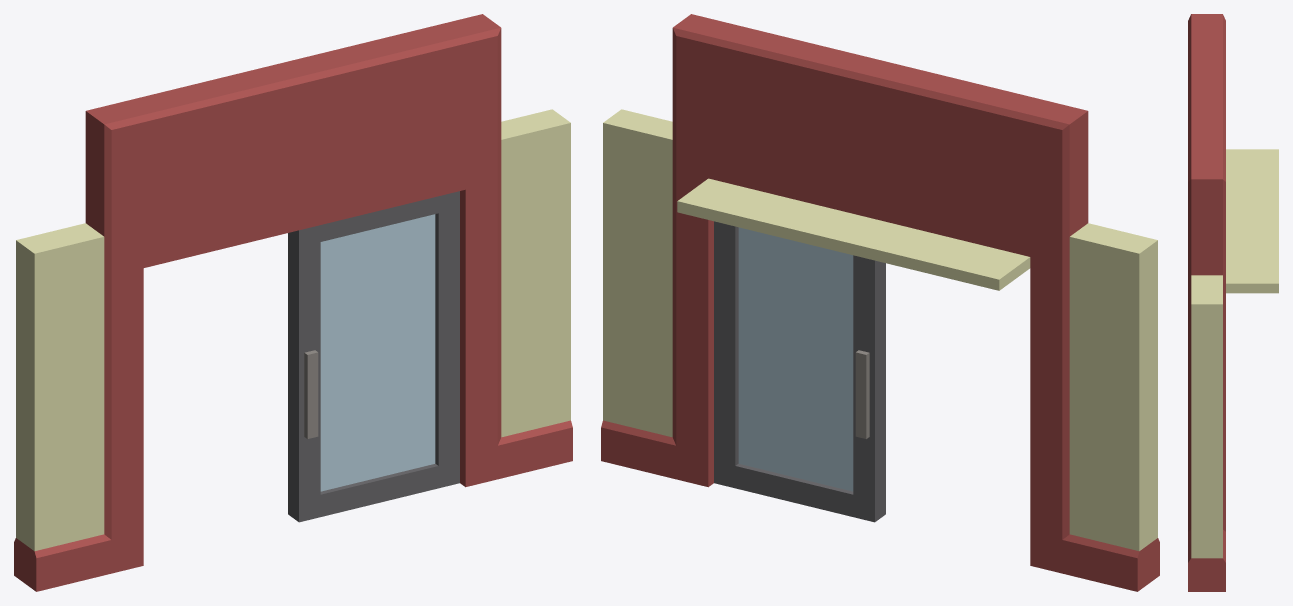
The model's file is Entrance.fbx.
3 renders of one model, left to right at view 1: azimuth 30°, elevation 25°; view 2: azimuth 150°, elevation 25°; view 3: azimuth 270°, elevation 25°, orthographic. The views are drawn at different scales.
Parts seen in each view (by area): view 1: Wall, Door; view 2: Wall, Door; view 3: Wall.
Boxes of the visible parts, x1,y1,x2,y2 form: Wall: [14, 14, 572, 591]; Door: [288, 191, 459, 522]; Wall: [601, 14, 1159, 591]; Door: [714, 221, 885, 522]; Wall: [1188, 14, 1278, 591].
Bounding box in the file's own units: 5 × 4 × 0.86.
3 materials, 1 textured.
